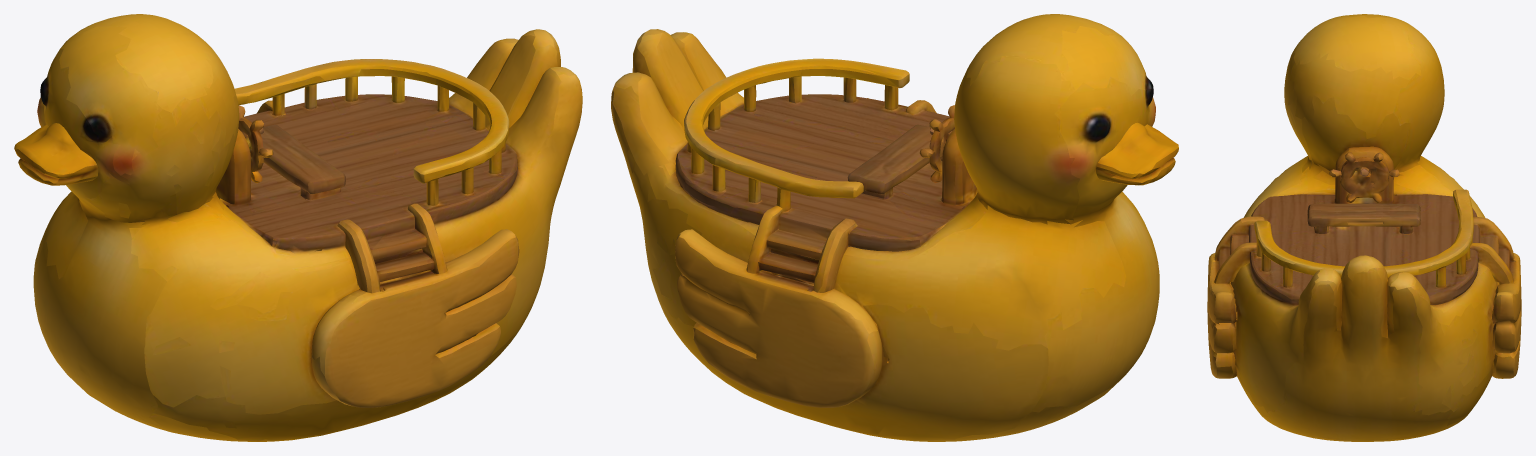
File: wish_duck_boat.glb
3 views of the same model, side by side, from view 1: azimuth 30°, elevation 25°; view 2: azimuth 150°, elevation 25°; view 3: azimuth 270°, elevation 25° (orthographic). The views are drawn at different scales.
Parts seen in each view (by area): view 1: world; view 2: world; view 3: world.
Boxes of the visible parts, left/top/right/bottom form: world: left=14, top=14, right=582, bottom=441; world: left=611, top=14, right=1178, bottom=441; world: left=1207, top=14, right=1521, bottom=441.
Size of the model in its own units: 0.18 by 0.134 by 0.1174.
1 material, 1 textured.
